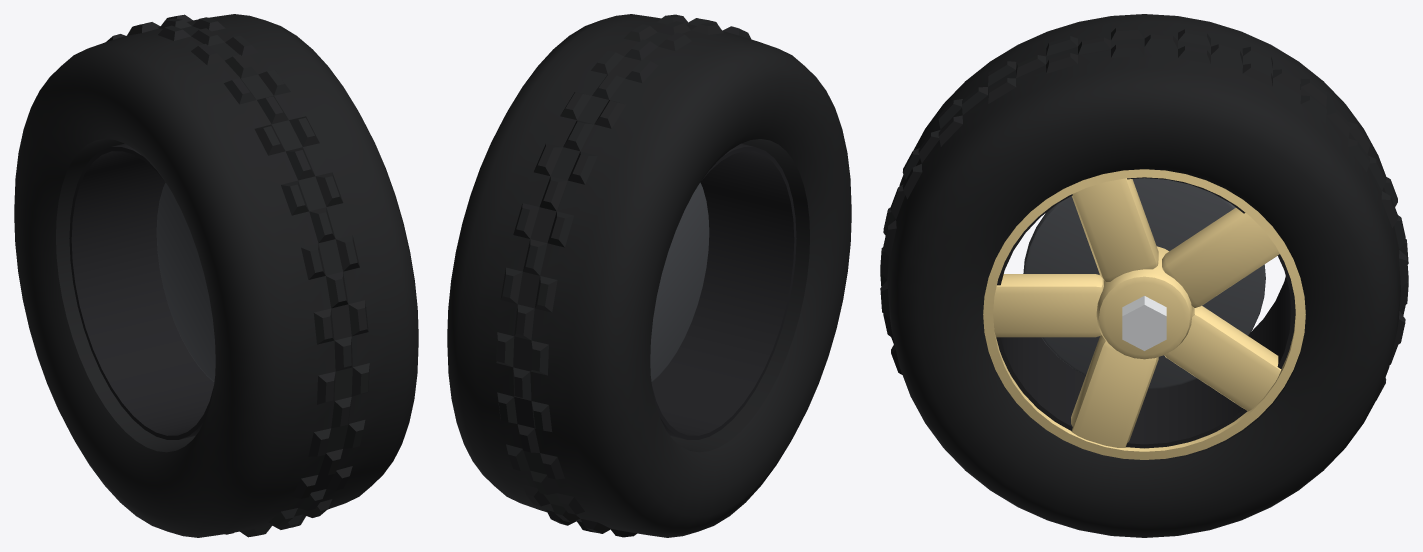
Rendered from wheel_coupe.fbx.
3 renders of one model, left to right at view 1: azimuth 30°, elevation 25°; view 2: azimuth 150°, elevation 25°; view 3: azimuth 270°, elevation 25°, orthographic.
Visible parts, largest first — view 1: tire_1, dark_1, brake_1; view 2: tire_1, dark_1, brake_1; view 3: tire_1, gold_1, brake_1, dark_1, chrome_1.
Boxes of the visible parts, x1,y1,x2,y2 form: tire_1: (14,14,418,537); dark_1: (69,143,214,439); brake_1: (156,182,215,381); tire_1: (447,14,851,537); dark_1: (651,143,796,439); brake_1: (650,182,709,381); tire_1: (880,14,1408,537); gold_1: (983,169,1305,459); brake_1: (1023,178,1265,389); dark_1: (996,177,1295,448); chrome_1: (1122,296,1166,350).
Bounding box in the file's own units: 0.0286 × 0.066 × 0.066.
